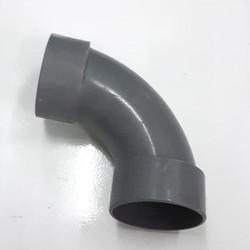PVC: (0, 0, 228, 250)
